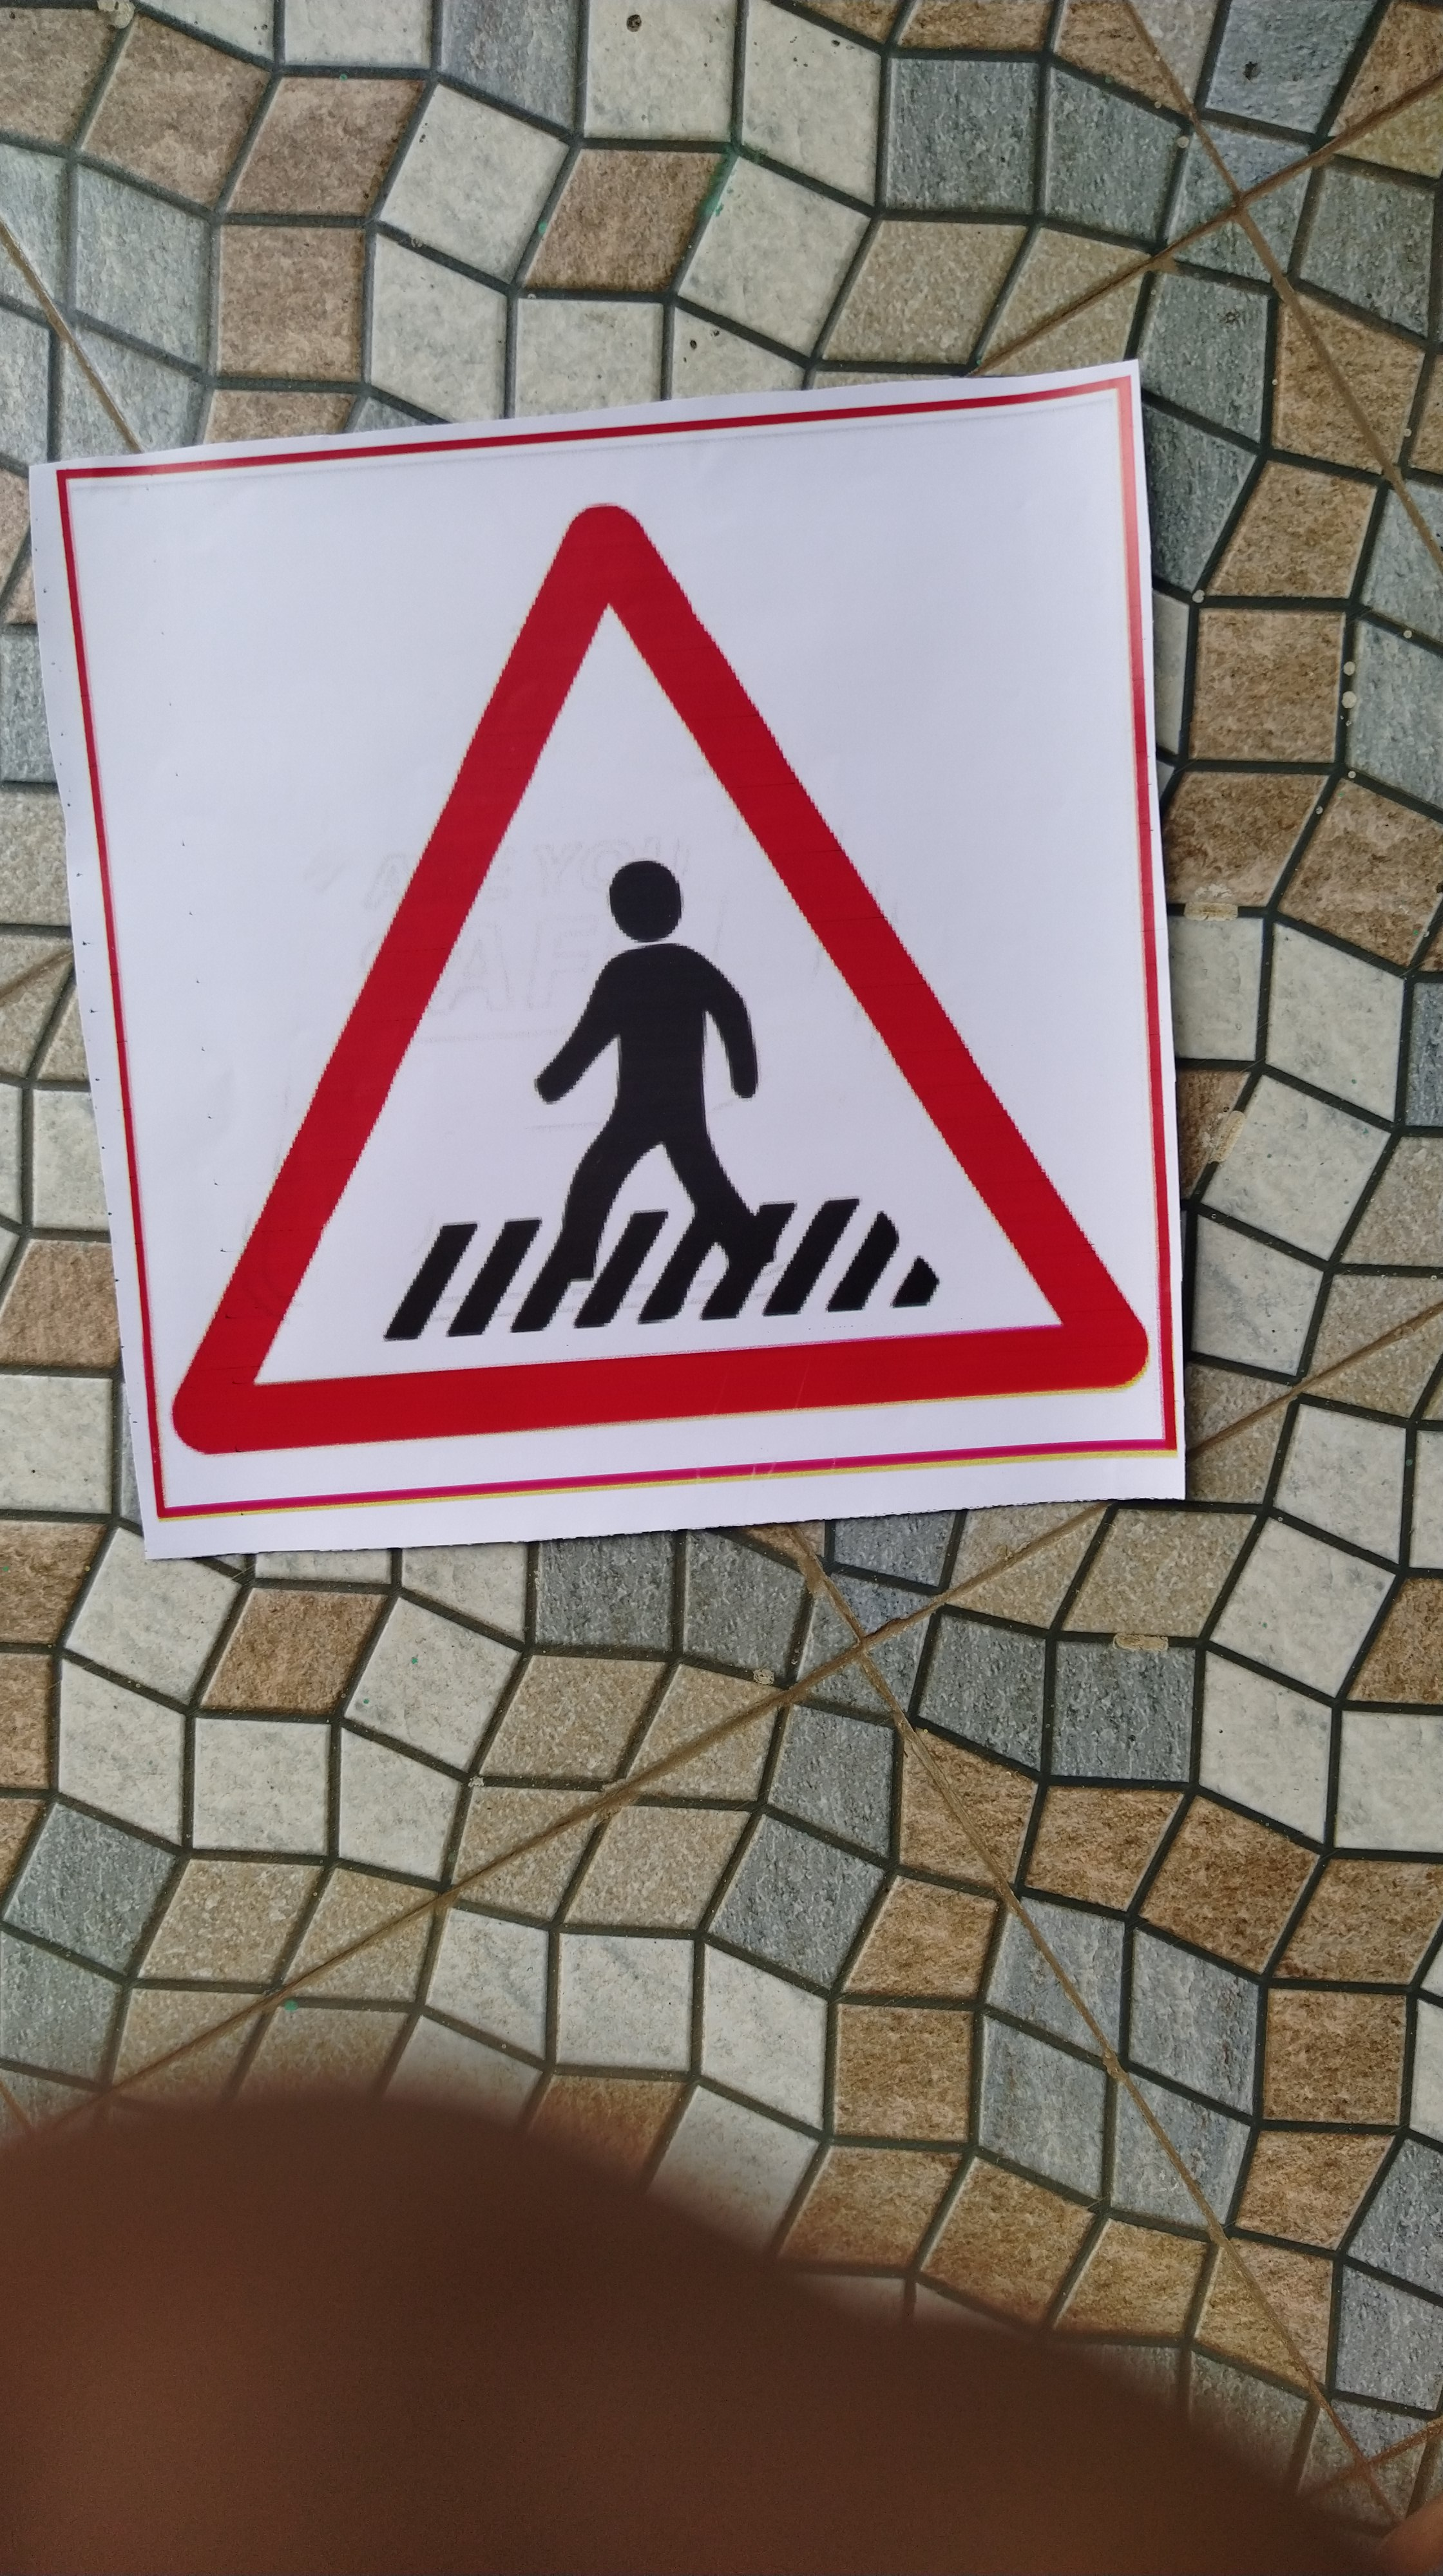pedestrain crossing: (90, 479, 1200, 1461)
